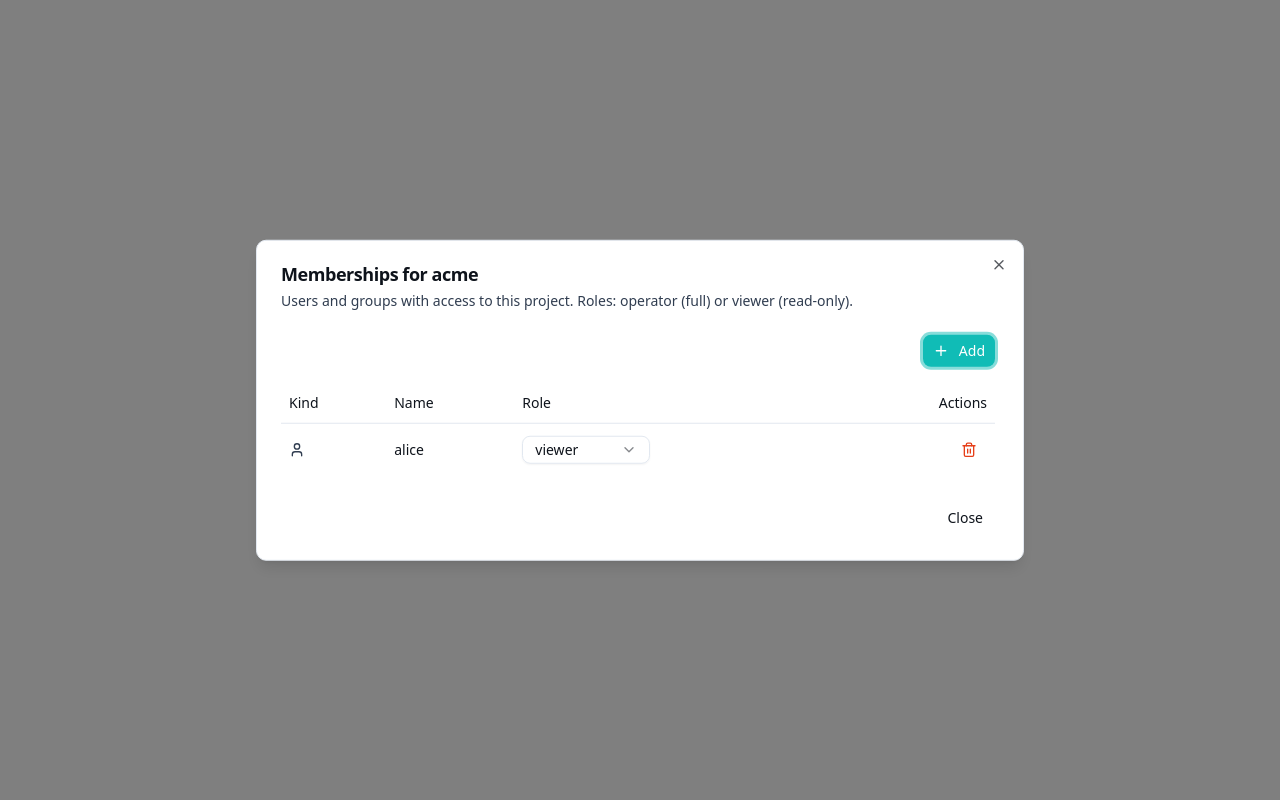
Test: project membership remove › toasts on success and offers Undo
Click the button named "Remove alice" at {"x": 969, "y": 449}, box [951, 431, 987, 467]
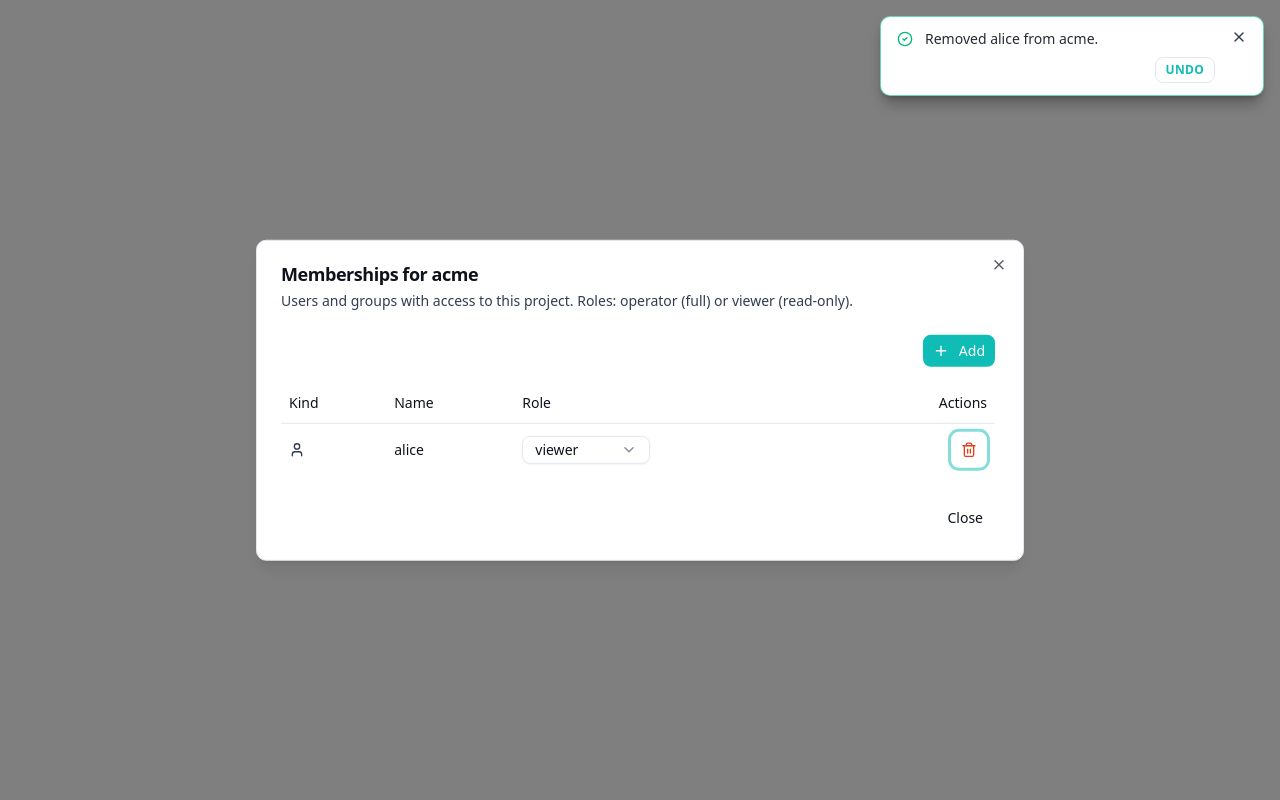
Result: the text "Removed alice from acme." is shown at [925, 29, 1098, 48]
Result: the button "Undo" is shown at [1154, 57, 1215, 83]
